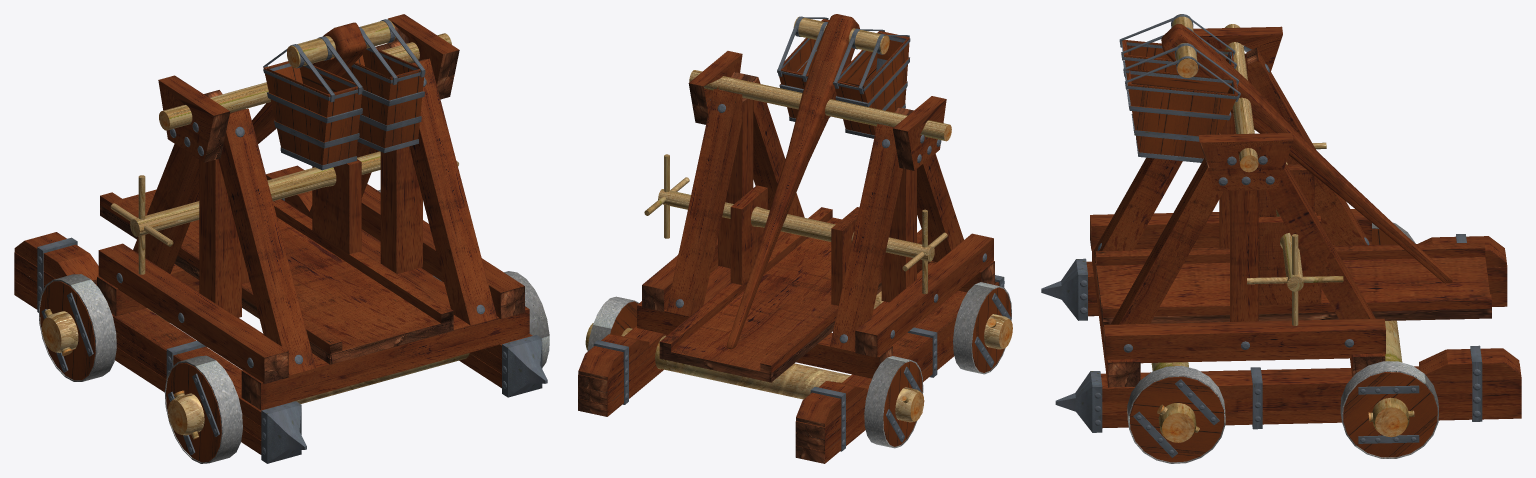
The model's file is Trebuchet.obj.
3 renders of one model, left to right at view 1: azimuth 30°, elevation 25°; view 2: azimuth 150°, elevation 25°; view 3: azimuth 270°, elevation 25°, orthographic. The views are drawn at different scales.
Visible parts, largest first — view 1: BODY, BODY Throw Buckets, BODY FrontAxil Rfwheel, BODY RearAxil RrWheel, BODY Crank, BODY Pivot, BODY FrontAxil, BODY Throw, BODY RearAxil, BODY FrontAxil Ffwheel; view 2: BODY, BODY Throw Buckets, BODY Throw, BODY Crank, BODY RearAxil, BODY FrontAxil Rfwheel, BODY RearAxil RrWheel, BODY Pivot, BODY RearAxil LrWheel, BODY FrontAxil; view 3: BODY, BODY Throw Buckets, BODY FrontAxil Ffwheel, BODY RearAxil LrWheel, BODY Throw, BODY Crank, BODY RearAxil, BODY Pivot, BODY FrontAxil.
Part boxes in pixels (left/top/right/bottom): BODY: left=14, top=14, right=547, bottom=463; BODY Throw Buckets: left=263, top=19, right=425, bottom=170; BODY FrontAxil Rfwheel: left=164, top=355, right=242, bottom=463; BODY RearAxil RrWheel: left=38, top=274, right=116, bottom=381; BODY Crank: left=110, top=151, right=458, bottom=274; BODY Pivot: left=159, top=33, right=451, bottom=130; BODY FrontAxil: left=168, top=349, right=485, bottom=435; BODY Throw: left=252, top=22, right=366, bottom=143; BODY RearAxil: left=42, top=308, right=169, bottom=352; BODY FrontAxil Ffwheel: left=504, top=271, right=549, bottom=367; BODY: left=578, top=51, right=1004, bottom=463; BODY Throw Buckets: left=777, top=16, right=910, bottom=138; BODY Throw: left=726, top=14, right=859, bottom=349; BODY Crank: left=644, top=154, right=947, bottom=294; BODY RearAxil: left=585, top=323, right=924, bottom=422; BODY FrontAxil Rfwheel: left=953, top=282, right=1011, bottom=374; BODY RearAxil RrWheel: left=864, top=356, right=923, bottom=448; BODY Pivot: left=689, top=70, right=951, bottom=141; BODY RearAxil LrWheel: left=587, top=296, right=638, bottom=351; BODY FrontAxil: left=678, top=254, right=1012, bottom=349; BODY: left=1041, top=26, right=1521, bottom=432; BODY Throw Buckets: left=1119, top=14, right=1240, bottom=162; BODY FrontAxil Ffwheel: left=1127, top=365, right=1225, bottom=463; BODY RearAxil LrWheel: left=1340, top=361, right=1438, bottom=458; BODY Throw: left=1161, top=24, right=1452, bottom=282; BODY Crank: left=1247, top=142, right=1343, bottom=325; BODY RearAxil: left=1372, top=320, right=1409, bottom=437; BODY Pivot: left=1225, top=24, right=1258, bottom=172; BODY FrontAxil: left=1151, top=362, right=1196, bottom=442.
Size of the model in its own units: 22.84 by 22 by 26.78.
Materials: 7 (7 with a texture image).
